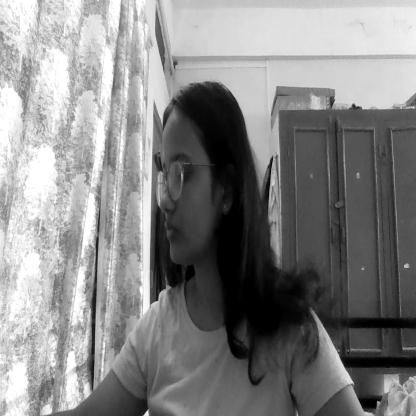Distracted: (156, 81, 257, 264)
